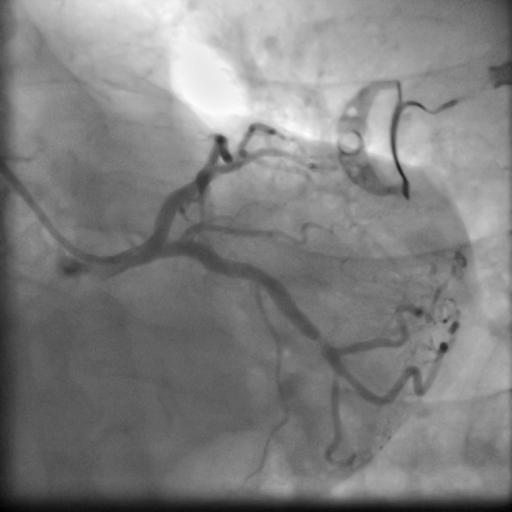Stenosis: (313, 327, 333, 350)
